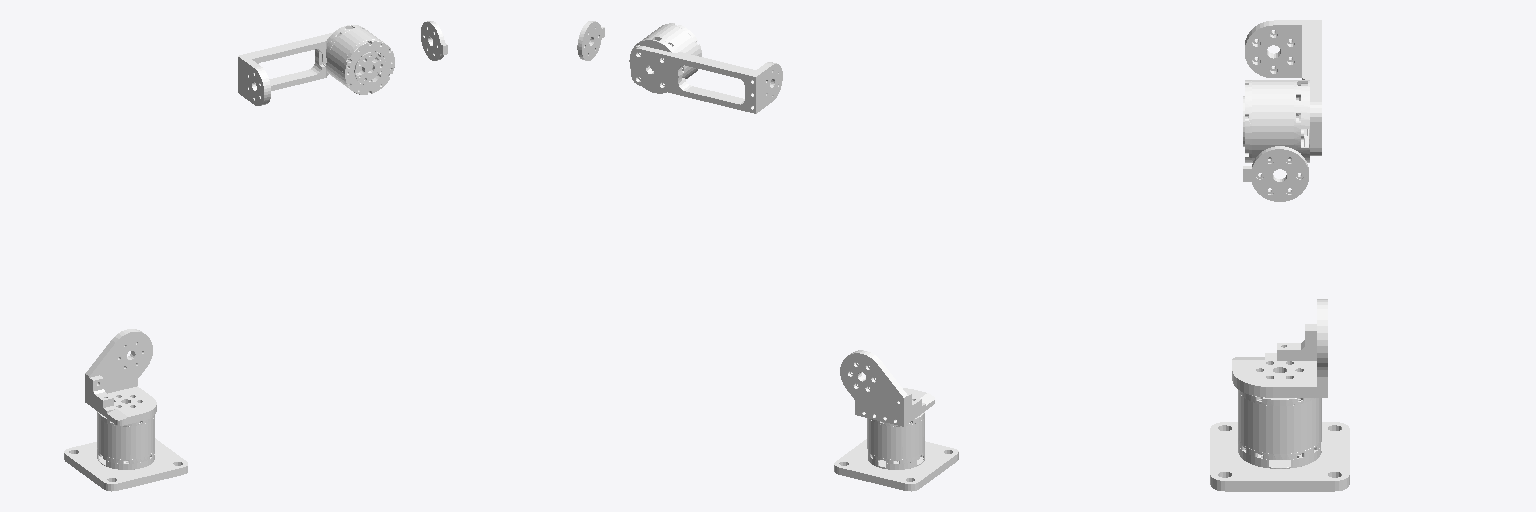
URDF robot description (zayv2_description):
<?xml version="1.0" encoding="utf-8"?>
<!-- Robot geometry and inertial data exported from SolidWorks. -->
<robot
  name="zayv2_description">
  <link
    name="base_link">
    <inertial>
      <origin
        xyz="-1.55107906769218E-05 -5.71406076580672E-05 0.0246966723243182"
        rpy="0 0 0" />
      <mass
        value="0.180654008012069" />
      <inertia
        ixx="8.5658780354871E-05"
        ixy="-1.14872280594255E-08"
        ixz="-7.63381189904199E-09"
        iyy="8.54580242848368E-05"
        iyz="1.00316382695735E-08"
        izz="0.00014642222515205" />
    </inertial>
    <visual>
      <origin
        xyz="0 0 0"
        rpy="0 0 0" />
      <geometry>
        <mesh
          filename="package://zayv2_description/meshes/base_link.stl" />
      </geometry>
      <material
        name="">
        <color
          rgba="1 1 1 1" />
      </material>
    </visual>
    <collision>
      <origin
        xyz="0 0 0"
        rpy="0 0 0" />
      <geometry>
        <mesh
          filename="package://zayv2_description/meshes/base_link.stl" />
      </geometry>
    </collision>
  </link>
  <link
    name="link1">
    <inertial>
      <origin
        xyz="0.0024462 0.014977 0.010882"
        rpy="0 0 0" />
      <mass
        value="0.052975" />
      <inertia
        ixx="1.518E-05"
        ixy="-4.4616E-07"
        ixz="-3.4719E-06"
        iyy="2.3714E-05"
        iyz="-8.5943E-08"
        izz="2.0904E-05" />
    </inertial>
    <visual>
      <origin
        xyz="0 0 0"
        rpy="0 0 0" />
      <geometry>
        <mesh
          filename="package://zayv2_description/meshes/link1.stl" />
      </geometry>
      <material
        name="">
        <color
          rgba="1 1 1 1" />
      </material>
    </visual>
    <collision>
      <origin
        xyz="0 0 0"
        rpy="0 0 0" />
      <geometry>
        <mesh
          filename="package://zayv2_description/meshes/link1.stl" />
      </geometry>
    </collision>
  </link>
  <joint
    name="joint1"
    type="revolute">
    <origin
      xyz="0 0 0.0693"
      rpy="0 0 0" />
    <parent
      link="base_link" />
    <child
      link="link1" />
    <axis
      xyz="0 0 -1" />
    <limit lower="-3.1415" upper="3.1415" effort="10.0" velocity="3.0" />
  </joint>
  <link
    name="link2">
    <inertial>
      <origin
        xyz="0.013198 -0.12253 0.026705"
        rpy="0 0 0" />
      <mass
        value="0.31472" />
      <inertia
        ixx="0.00089498"
        ixy="6.8225E-05"
        ixz="1.2234E-06"
        iyy="0.00011501"
        iyz="5.7001E-07"
        izz="0.0009626" />
    </inertial>
    <visual>
      <origin
        xyz="0 0 0"
        rpy="0 0 0" />
      <geometry>
        <mesh
          filename="package://zayv2_description/meshes/link2.stl" />
      </geometry>
      <material
        name="">
        <color
          rgba="1 1 1 1" />
      </material>
    </visual>
    <collision>
      <origin
        xyz="0 0 0"
        rpy="0 0 0" />
      <geometry>
        <mesh
          filename="package://zayv2_description/meshes/link2.stl" />
      </geometry>
    </collision>
  </link>
  <joint
    name="joint2"
    type="revolute">
    <origin
      xyz="0.02 -0.0363 0.035355"
      rpy="-1.5708 0 0" />
    <parent
      link="link1" />
    <child
      link="link2" />
    <axis
      xyz="0 0 -1" />
    <limit lower="-1.57075" upper="1.57075" effort="10.0" velocity="3.0" />
  </joint>
  <link
    name="link3">
    <inertial>
      <origin
        xyz="0.054994 -0.023315 0.03709"
        rpy="0 0 0" />
      <mass
        value="0.1318" />
      <inertia
        ixx="5.2023E-05"
        ixy="3.1486E-06"
        ixz="-2.326E-09"
        iyy="3.4989E-05"
        iyz="-4.8641E-09"
        izz="4.1587E-05" />
    </inertial>
    <visual>
      <origin
        xyz="0 0 0"
        rpy="0 0 0" />
      <geometry>
        <mesh
          filename="package://zayv2_description/meshes/link3.stl" />
      </geometry>
      <material
        name="">
        <color
          rgba="1 1 1 1" />
      </material>
    </visual>
    <collision>
      <origin
        xyz="0 0 0"
        rpy="0 0 0" />
      <geometry>
        <mesh
          filename="package://zayv2_description/meshes/link3.stl" />
      </geometry>
    </collision>
  </link>
  <joint
    name="joint3"
    type="revolute">
    <origin
      xyz="0.035 -0.25 0"
      rpy="0 0 0" />
    <parent
      link="link2" />
    <child
      link="link3" />
    <axis
      xyz="0 0 -1" />
    <limit lower="-1.57075" upper="1.57075" effort="10.0" velocity="3.0" />
  </joint>
  <link
    name="link4">
    <inertial>
      <origin
        xyz="7.3993E-05 0.0068305 0.091163"
        rpy="0 0 0" />
      <mass
        value="0.13948" />
      <inertia
        ixx="9.3425E-05"
        ixy="1.0031E-08"
        ixz="1.9199E-08"
        iyy="0.00011258"
        iyz="-1.319E-06"
        izz="3.6357E-05" />
    </inertial>
    <visual>
      <origin
        xyz="0 0 0"
        rpy="0 0 0" />
      <geometry>
        <mesh
          filename="package://zayv2_description/meshes/link4.stl" />
      </geometry>
      <material
        name="">
        <color
          rgba="1 1 1 1" />
      </material>
    </visual>
    <collision>
      <origin
        xyz="0 0 0"
        rpy="0 0 0" />
      <geometry>
        <mesh
          filename="package://zayv2_description/meshes/link4.stl" />
      </geometry>
    </collision>
  </link>
  <joint
    name="joint4"
    type="revolute">
    <origin
      xyz="0.096 -0.025 0.03205"
      rpy="1.5708 0 1.5708" />
    <parent
      link="link3" />
    <child
      link="link4" />
    <axis
      xyz="0 0 -1" />
    <limit lower="-3.1415" upper="3.1415" effort="10.0" velocity="3.0" />
  </joint>
  <link
    name="link5">
    <inertial>
      <origin
        xyz="0.051622 -8.1836E-05 0.028852"
        rpy="0 0 0" />
      <mass
        value="0.12611" />
      <inertia
        ixx="4.7081E-05"
        ixy="1.0031E-08"
        ixz="1.4295E-08"
        iyy="3.3337E-05"
        iyz="1.9221E-08"
        izz="3.6169E-05" />
    </inertial>
    <visual>
      <origin
        xyz="0 0 0"
        rpy="0 0 0" />
      <geometry>
        <mesh
          filename="package://zayv2_description/meshes/link5.stl" />
      </geometry>
      <material
        name="">
        <color
          rgba="1 1 1 1" />
      </material>
    </visual>
    <collision>
      <origin
        xyz="0 0 0"
        rpy="0 0 0" />
      <geometry>
        <mesh
          filename="package://zayv2_description/meshes/link5.stl" />
      </geometry>
    </collision>
  </link>
  <joint
    name="joint5"
    type="revolute">
    <origin
      xyz="0 -0.029 0.11205"
      rpy="-1.5708 -1.5708 0" />
    <parent
      link="link4" />
    <child
      link="link5" />
    <axis
      xyz="0 0 1" />
    <limit lower="-1.88495" upper="1.88495" effort="10.0" velocity="3.0" />
  </joint>
  <link
    name="link6">
    <inertial>
      <origin
        xyz="1.2434E-14 -0.001012 0.002452"
        rpy="0 0 0" />
      <mass
        value="0.0057641" />
      <inertia
        ixx="7.2709E-07"
        ixy="1.4983E-18"
        ixz="-3.5629E-21"
        iyy="6.0403E-07"
        iyz="2.801E-10"
        izz="1.3076E-06" />
    </inertial>
    <visual>
      <origin
        xyz="0 0 0"
        rpy="0 0 0" />
      <geometry>
        <mesh
          filename="package://zayv2_description/meshes/link6.stl" />
      </geometry>
      <material
        name="">
        <color
          rgba="1 1 1 1" />
      </material>
    </visual>
    <collision>
      <origin
        xyz="0 0 0"
        rpy="0 0 0" />
      <geometry>
        <mesh
          filename="package://zayv2_description/meshes/link6.stl" />
      </geometry>
    </collision>
  </link>
  <joint
    name="joint6"
    type="revolute">
    <origin
      xyz="0.083 0 0.03325"
      rpy="1.5708 0 1.5708" />
    <parent
      link="link5" />
    <child
      link="link6" />
    <axis
      xyz="0 0 -1" />
    <limit lower="-3.1415" upper="3.1415" effort="10.0" velocity="3.0" />
  </joint>
</robot>

--- Render facts (derived) ---
Views: 3 orthographic renders of the robot side by side, from view 1: azimuth 30°, elevation 25°; view 2: azimuth 150°, elevation 25°; view 3: azimuth 270°, elevation 25°.
Robot: zayv2_description — 7 links, 6 joints (6 revolute); root link base_link; default pose: every joint at zero.
Links seen in each view (by area): view 1: link4, base_link, link1, link6; view 2: link4, base_link, link1, link6; view 3: base_link, link4, link1, link6.
Boxes of the visible links, <box> form: link4: <box>238,25,394,105</box>; base_link: <box>64,411,187,491</box>; link1: <box>85,329,156,425</box>; link6: <box>421,21,447,60</box>; link4: <box>629,23,782,113</box>; base_link: <box>834,412,958,491</box>; link1: <box>840,350,934,426</box>; link6: <box>577,21,604,60</box>; base_link: <box>1210,390,1349,491</box>; link4: <box>1243,20,1321,162</box>; link1: <box>1232,299,1327,397</box>; link6: <box>1243,146,1308,201</box>.
Bounding box of the posed robot: 0.3986 × 0.095 × 0.4082 m (x, y, z).
Meshes: 7 distinct files referenced, 4 mesh visuals loaded (4 binary STL); not drawn: 3 (reference not matched to a file when rendering).
